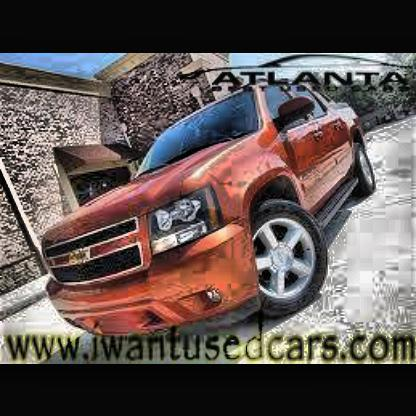Chevrolet Avalanche Crew Cab 2012: (39, 80, 379, 346)
